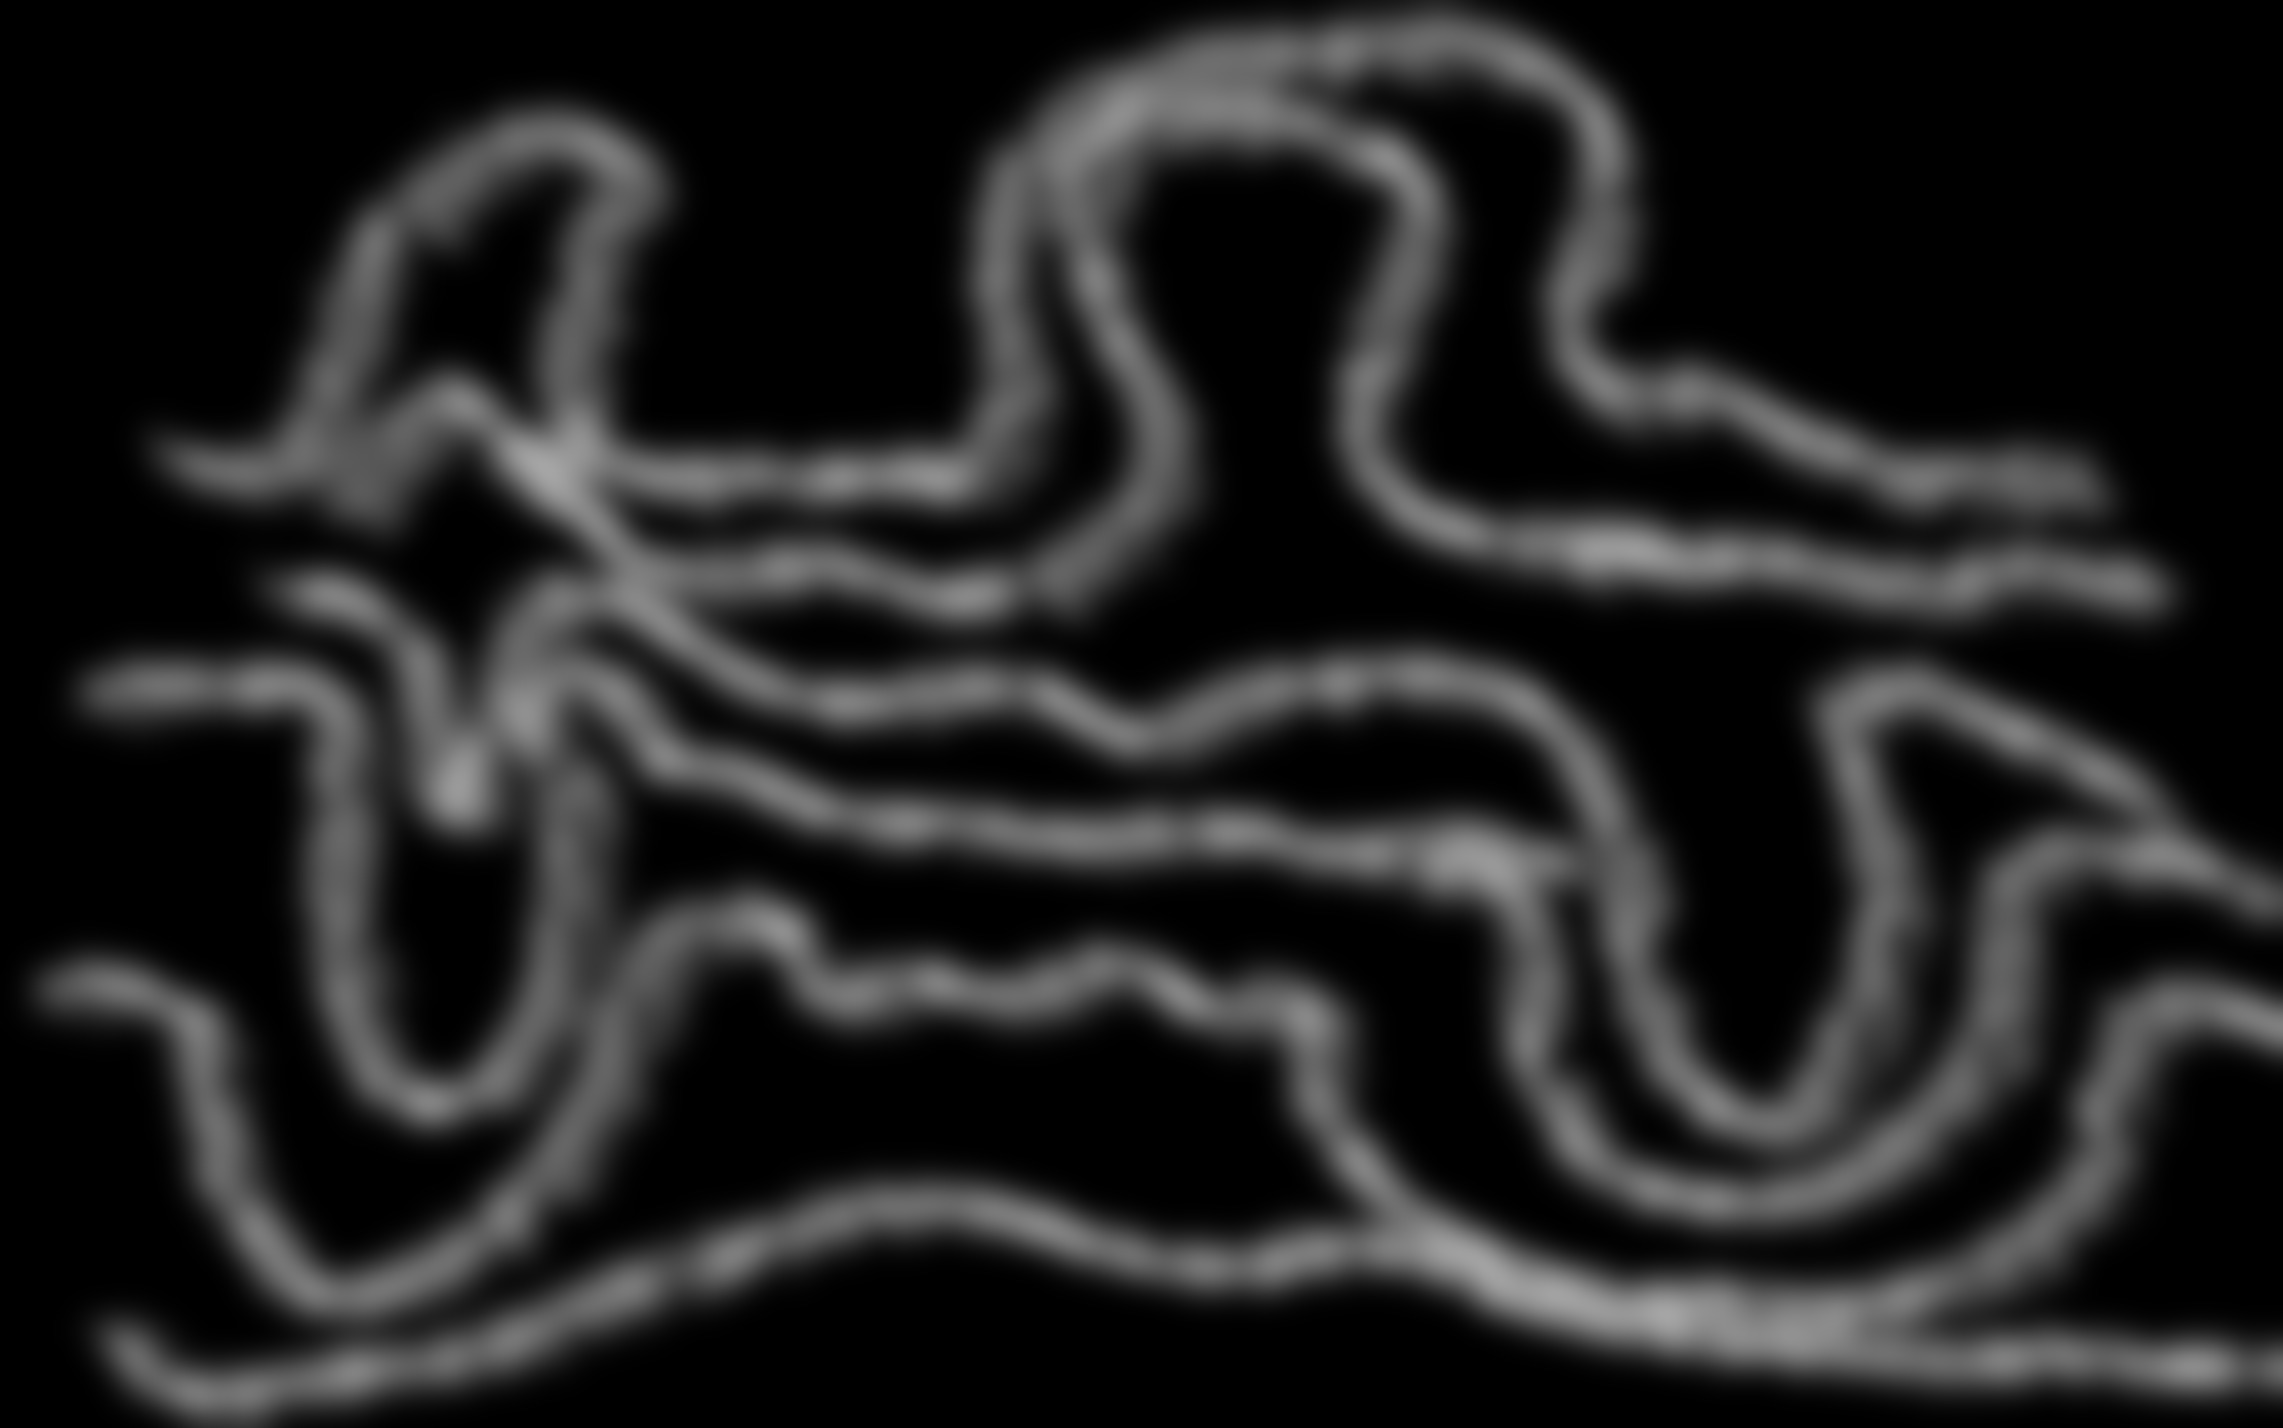turbulence: (49, 26, 2258, 1402)
